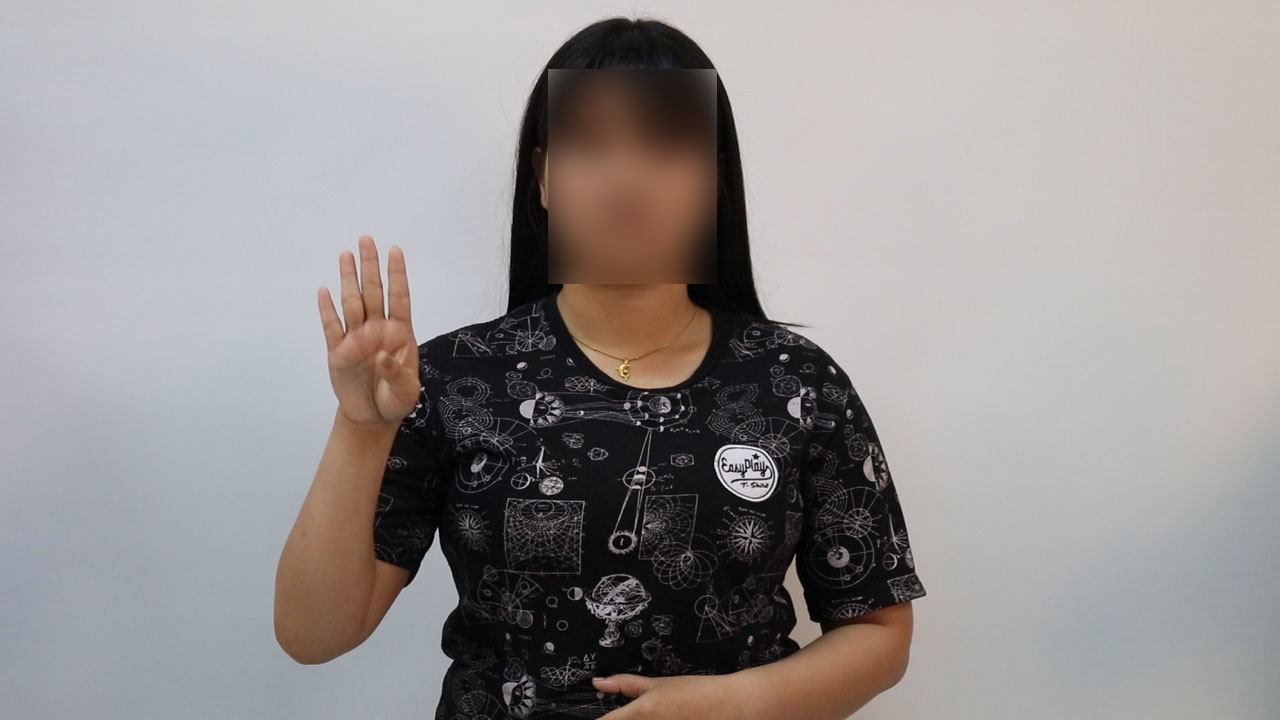bor: (307, 217, 432, 447)
